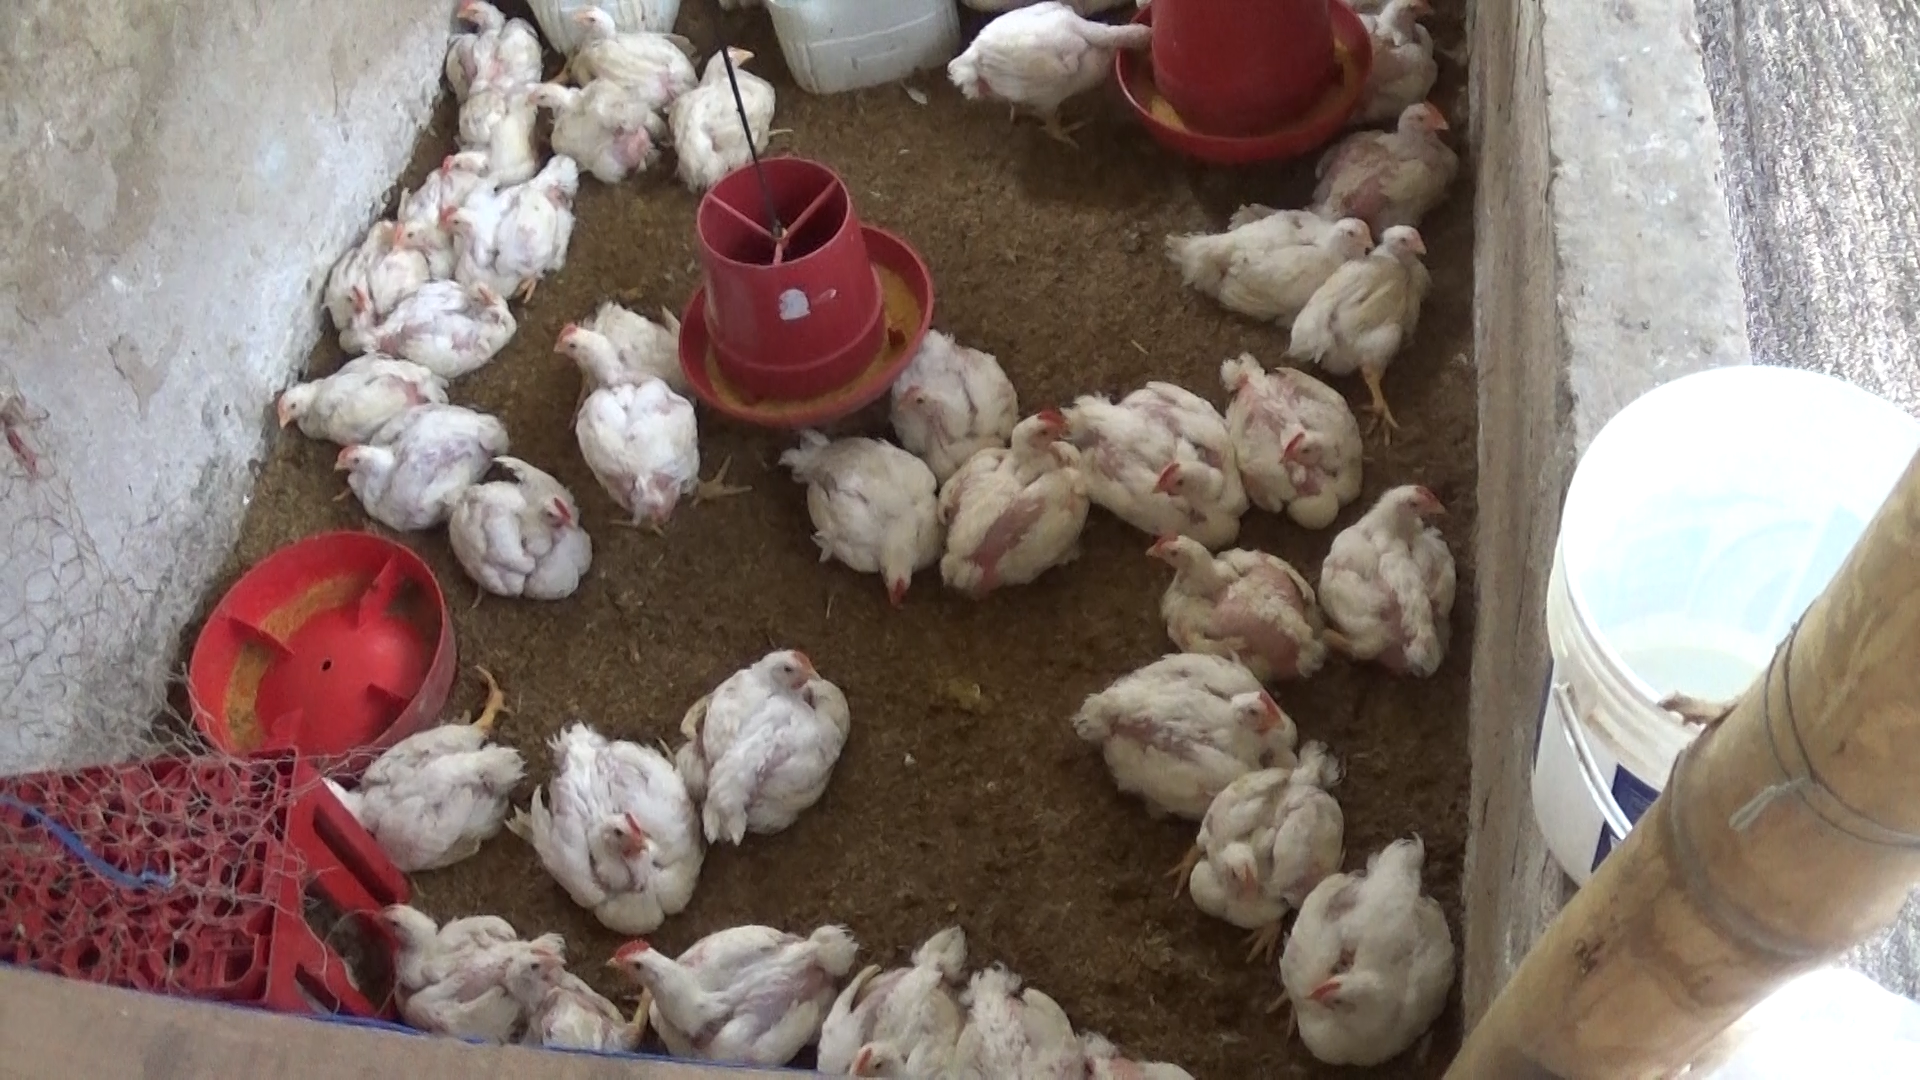Pollos: (1271, 829, 1493, 1080), (553, 291, 731, 531), (521, 721, 716, 936), (603, 927, 861, 1080), (680, 642, 861, 851), (1087, 642, 1286, 825), (1323, 468, 1490, 680), (1056, 368, 1262, 541), (309, 708, 524, 873), (1187, 748, 1367, 938), (931, 7, 1160, 146), (1156, 191, 1382, 332), (1133, 522, 1338, 676), (793, 927, 994, 1080), (363, 893, 568, 1040), (934, 404, 1085, 601), (1284, 212, 1445, 396), (782, 422, 960, 583), (433, 458, 616, 612), (1228, 328, 1385, 504), (1313, 92, 1486, 239), (862, 314, 1036, 458), (326, 404, 514, 533), (336, 268, 530, 376), (509, 75, 676, 193), (440, 166, 582, 302), (671, 32, 789, 193), (491, 938, 628, 1073), (916, 967, 1069, 1080), (255, 363, 435, 452), (564, 7, 711, 102), (444, 0, 546, 108), (369, 191, 472, 278), (411, 135, 524, 193)
